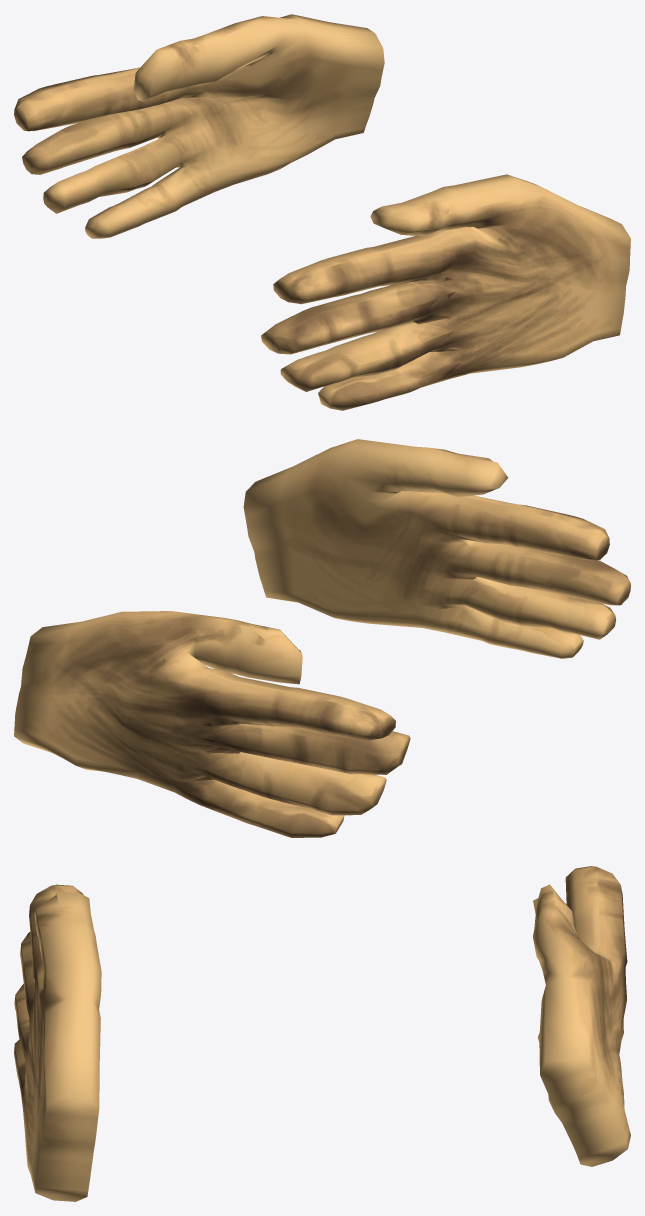
Rendered from hands_briefcase1.glb.
3 renders of one model, top to bottom at view 1: azimuth 30°, elevation 25°; view 2: azimuth 150°, elevation 25°; view 3: azimuth 270°, elevation 25°, orthographic. The views are drawn at different scales.
Parts seen in each view (by area): view 1: hand L_holding briefcase, hand R_holding briefcase; view 2: hand R_holding briefcase, hand L_holding briefcase; view 3: hand L_holding briefcase, hand R_holding briefcase.
Boxes of the visible parts, x1,y1,x2,y2 form: hand L_holding briefcase: (261, 174, 630, 410); hand R_holding briefcase: (14, 14, 384, 238); hand R_holding briefcase: (14, 611, 410, 837); hand L_holding briefcase: (243, 439, 630, 658); hand L_holding briefcase: (14, 884, 101, 1201); hand R_holding briefcase: (533, 866, 630, 1166).
Size of the model in its own units: 3.25 by 1.57 by 4.28.
Materials: 1 (1 with a texture image).
